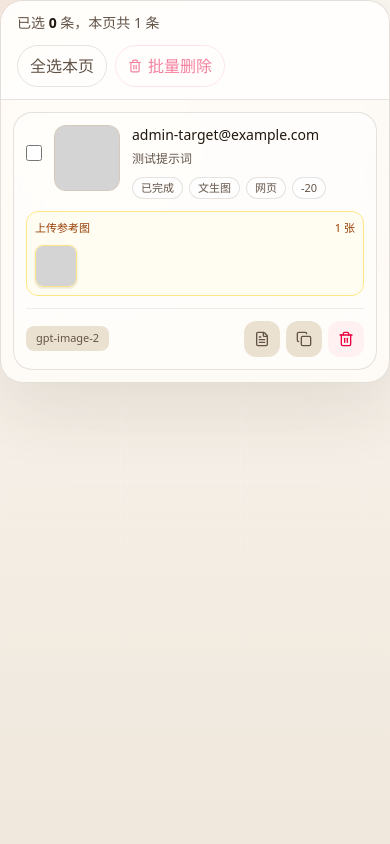
it: 后台生成记录列表视图 › 列表视图展示并可放大图生图参考图
Click the button named "查看参考图 1".
click(56, 266)  # box [35,244,77,286]
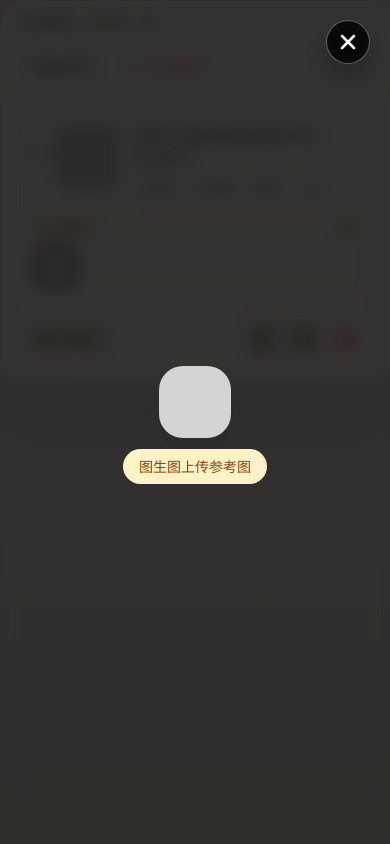
Now the text "图生图上传参考图" is shown, box [123,449,267,484]
